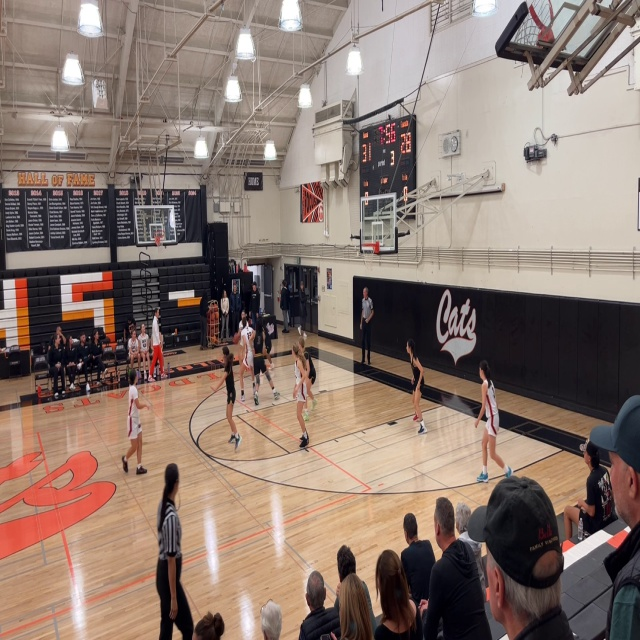Basketball: (232, 331, 241, 344)
